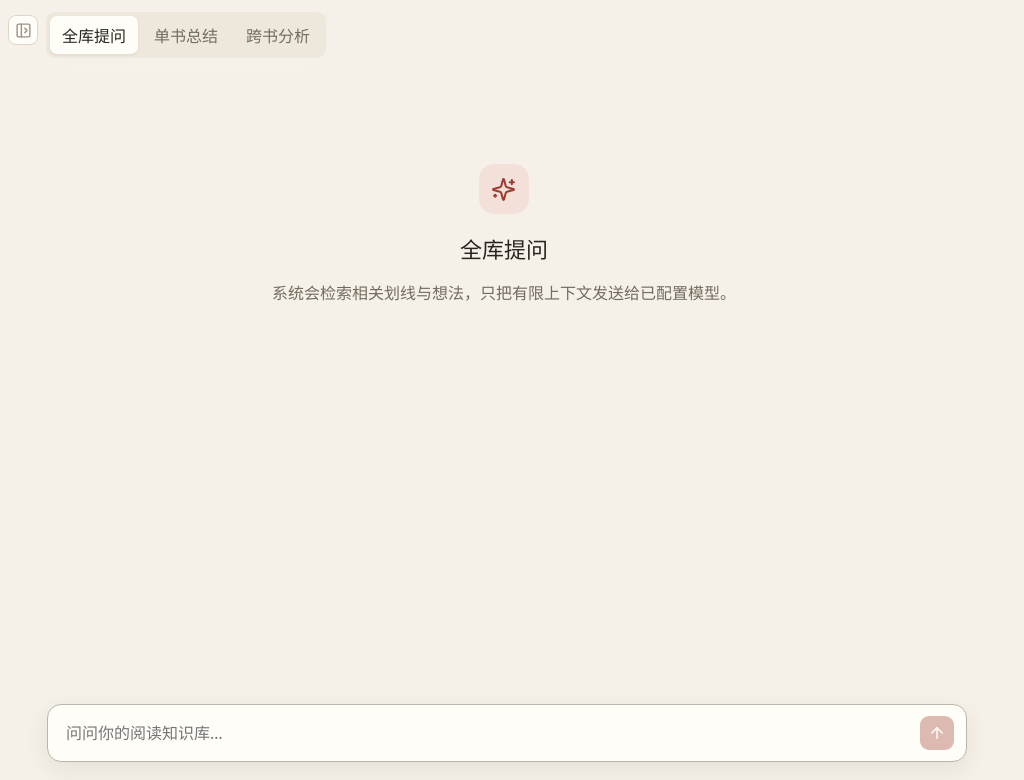
Scenario: AI 流式回答 › 旧请求的迟到事件不会串进当前回答
The image size is (1024, 780).
In the text box with placeholder "问问你的阅读知识库…": point(486, 734) [64, 718, 908, 750], type "串流测试"
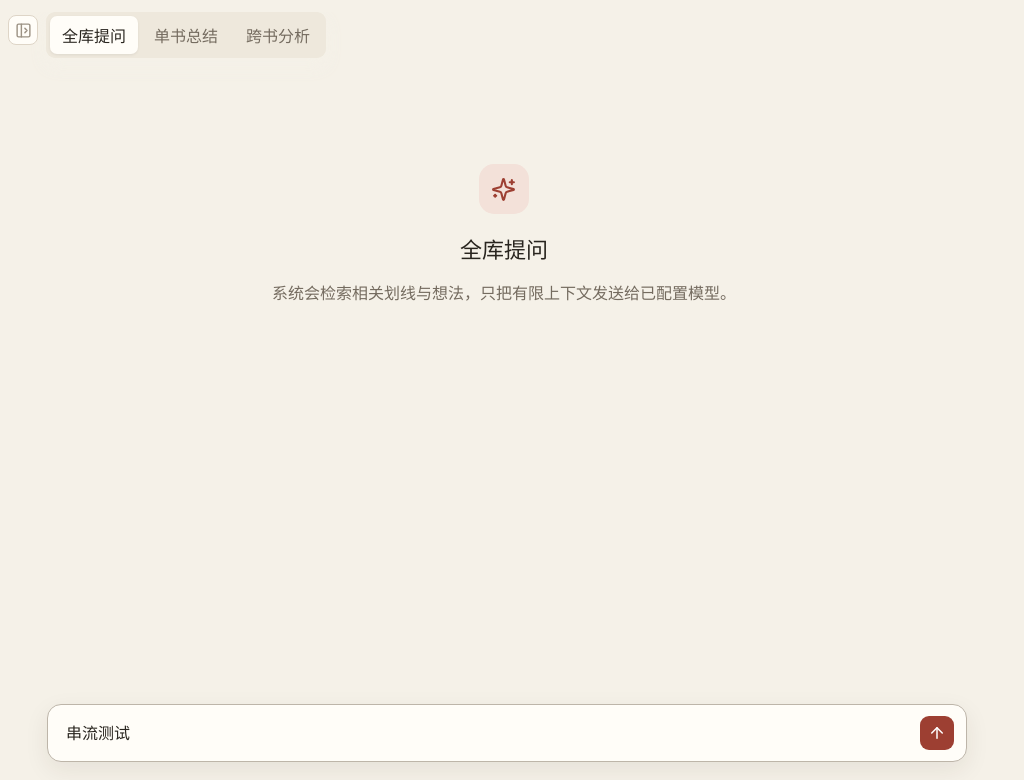
Click the button named "发送": point(937, 733) [920, 716, 954, 750]
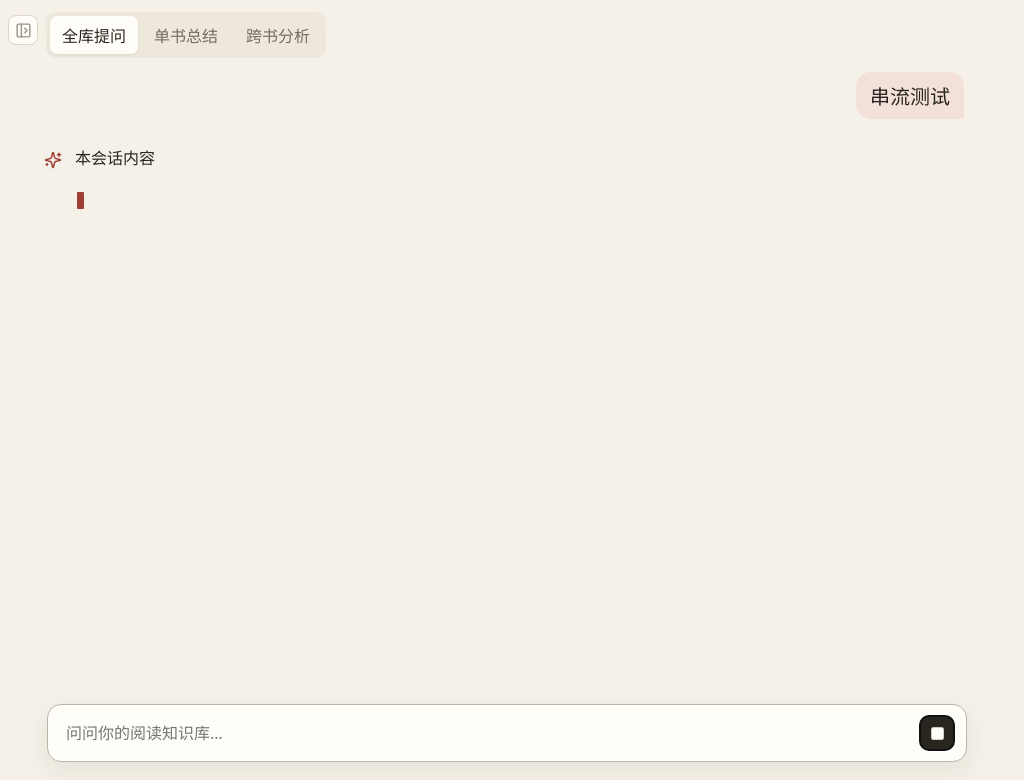
Expected: the text "本会话内容" is shown, [75, 147, 155, 169]
Expected: the button named "停止生成" is shown, [920, 716, 954, 750]
